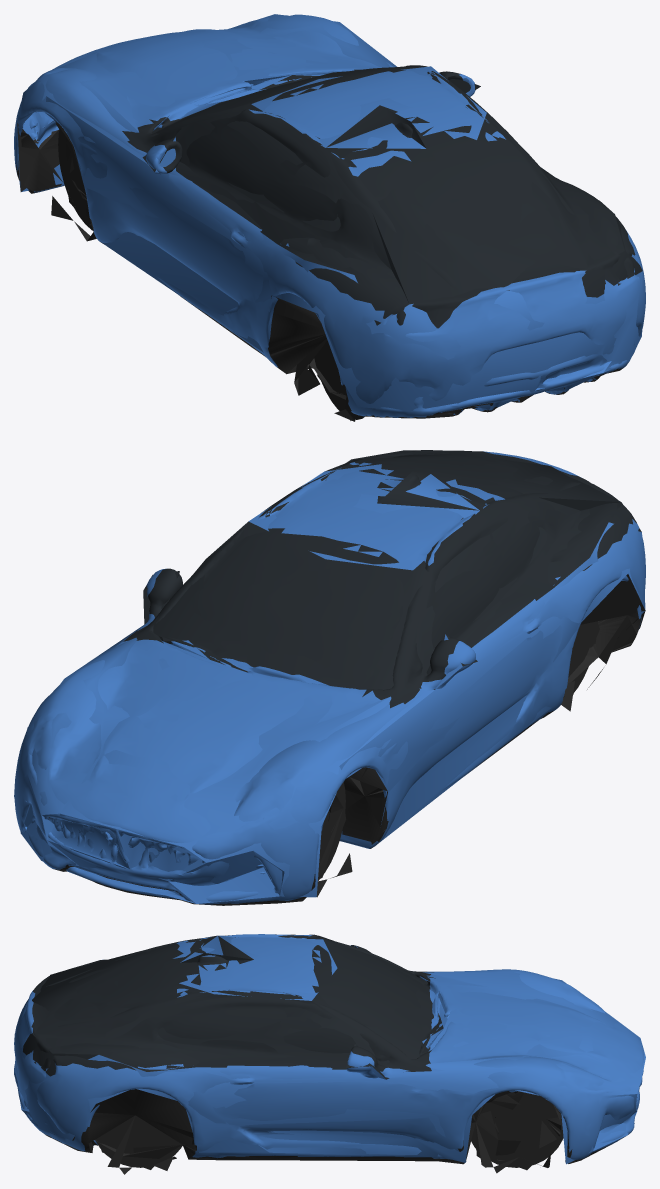
The model's file is maserati-granturismo.glb.
3 renders of one model, top to bottom at view 1: azimuth 30°, elevation 25°; view 2: azimuth 150°, elevation 25°; view 3: azimuth 270°, elevation 25°, orthographic. The views are drawn at different scales.
Visible parts, largest first — view 1: body, far; view 2: body, far; view 3: body, far.
Part boxes in pixels (left/top/right/bottom): body: left=14, top=14, right=645, bottom=421; far: left=17, top=14, right=642, bottom=421; body: left=14, top=450, right=645, bottom=905; far: left=14, top=450, right=645, bottom=903; body: left=14, top=934, right=643, bottom=1174; far: left=14, top=935, right=645, bottom=1170.
Size of the model in its own units: 2.21 by 1.54 by 4.99.
